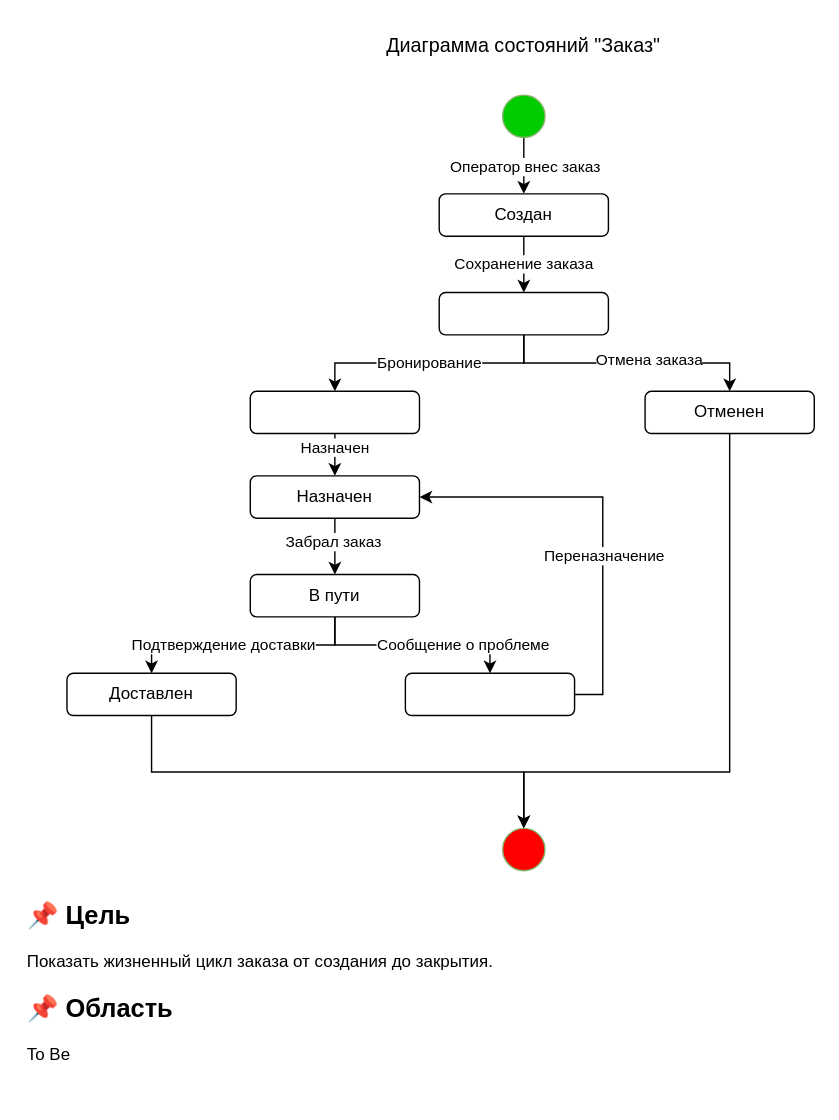
This 839x1120 diagram has some shape labels left out. Here are the shapes that lost their labels. From the top down, the centre of each, then its label:
At point 523,313: "Свободен".
At point 334,412: "Забронирован".
At point 489,694: "Проблема доставки".
